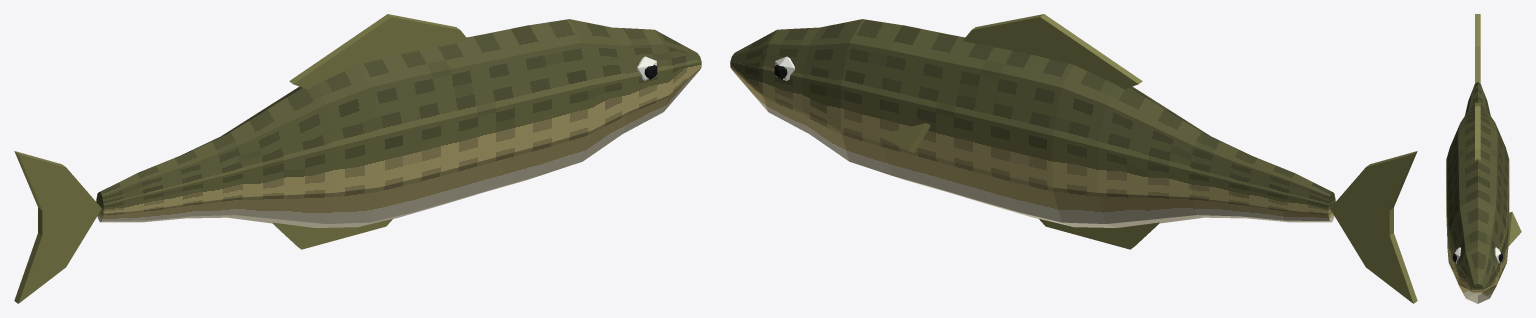
Rendered from saratoga.glb.
3 renders of one model, left to right at view 1: azimuth 30°, elevation 25°; view 2: azimuth 150°, elevation 25°; view 3: azimuth 270°, elevation 25°, orthographic. The views are drawn at different scales.
Visible parts, largest first — view 1: fish_saratoga; view 2: fish_saratoga; view 3: fish_saratoga.
Boxes of the visible parts, x1=… form: fish_saratoga: x1=14, y1=14, x2=701, y2=303; fish_saratoga: x1=730, y1=14, x2=1417, y2=303; fish_saratoga: x1=1446, y1=14, x2=1521, y2=303.
Bounding box in the file's own units: 1.14 × 0.337 × 0.1619.
Materials: 4 (1 with a texture image).
